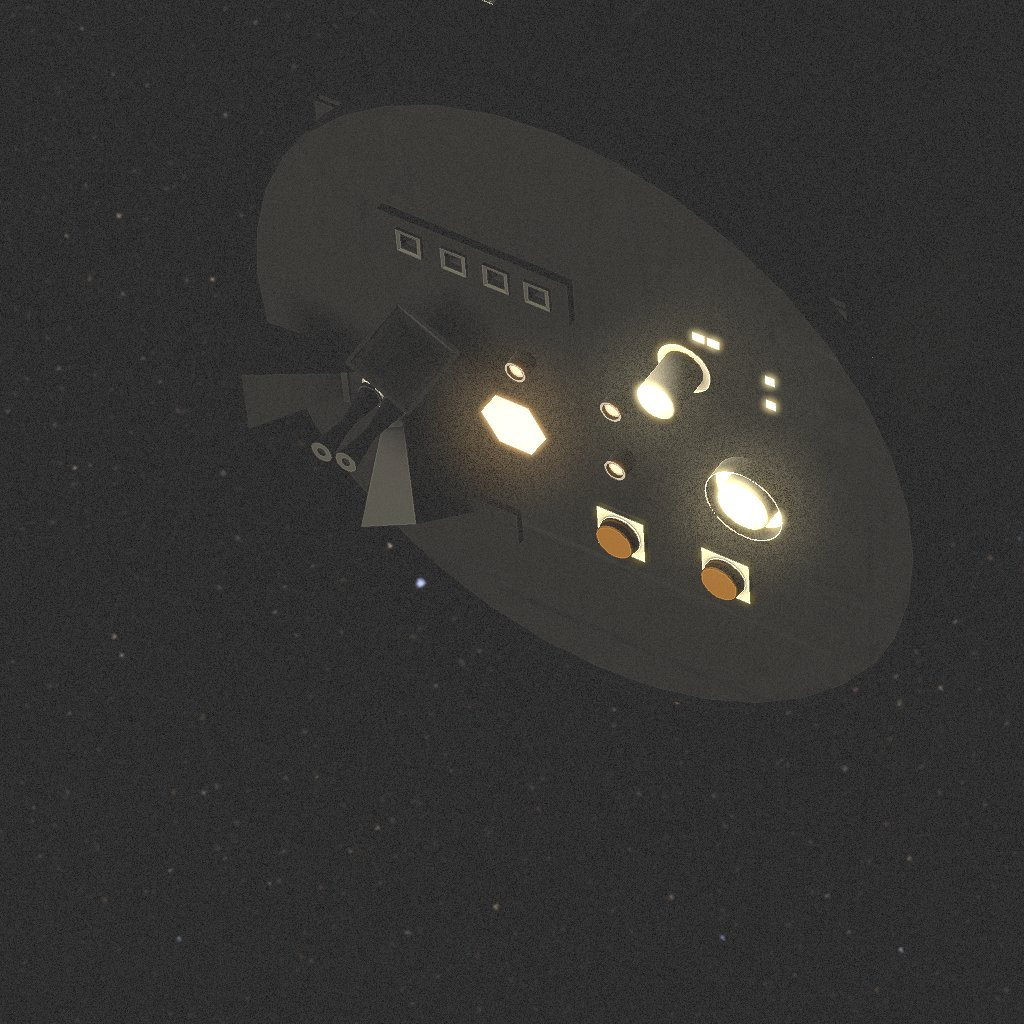proba_3_ocs: (242, 0, 1024, 712)
